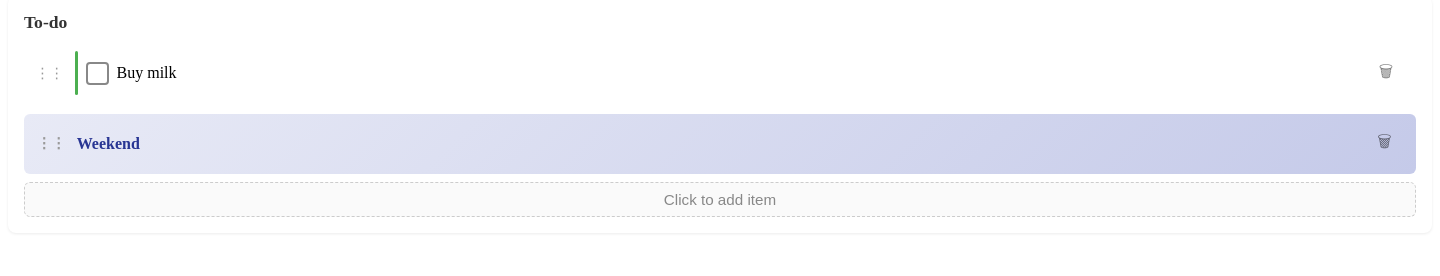
Scenario: TodoList delete flow › falls back to the error message when the API has no detail
Expected: the button "Buy milk" is shown, top-left (116, 64), bottom-right (176, 81)
Click the button named "Delete" at (1386, 73), box top-left (1364, 51), bottom-right (1408, 95)
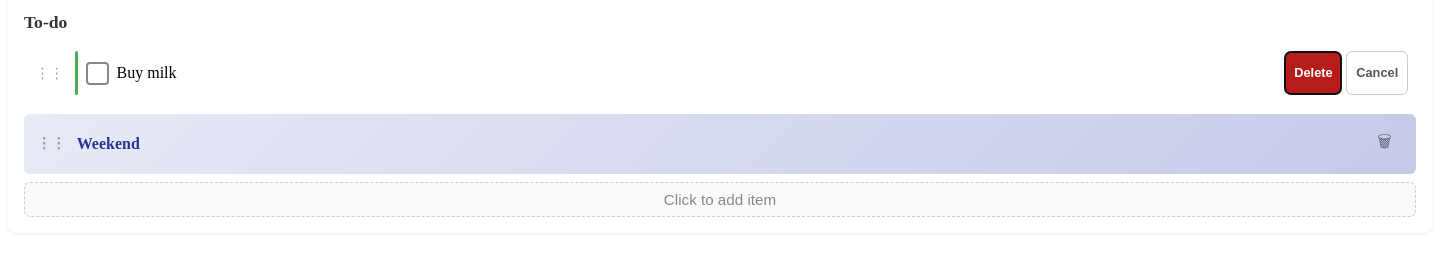
Click the button with aria-label "Confirm delete" at (1313, 73), box top-left (1284, 51), bottom-right (1342, 95)
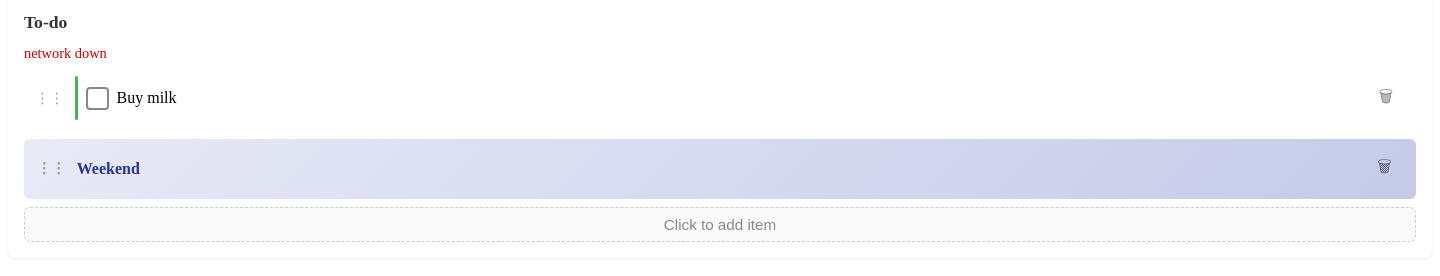
Now the text "network down" is shown, box top-left (24, 45), bottom-right (107, 61)
